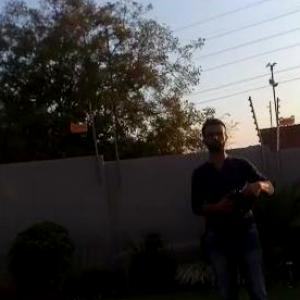follow: (186, 109, 277, 299)
